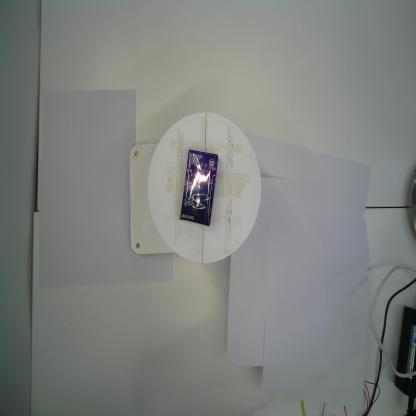Gum: (179, 148, 219, 227)
